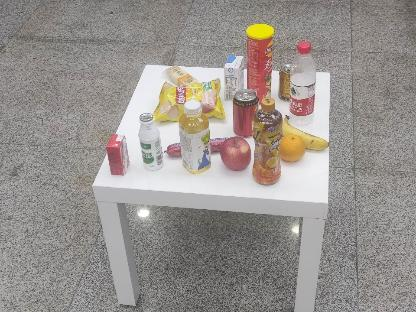Can: (233, 88, 258, 138), (278, 61, 298, 101)
Others: (245, 20, 274, 104), (104, 130, 134, 180), (220, 53, 246, 101)
Plastic Bottle: (284, 38, 320, 118)
